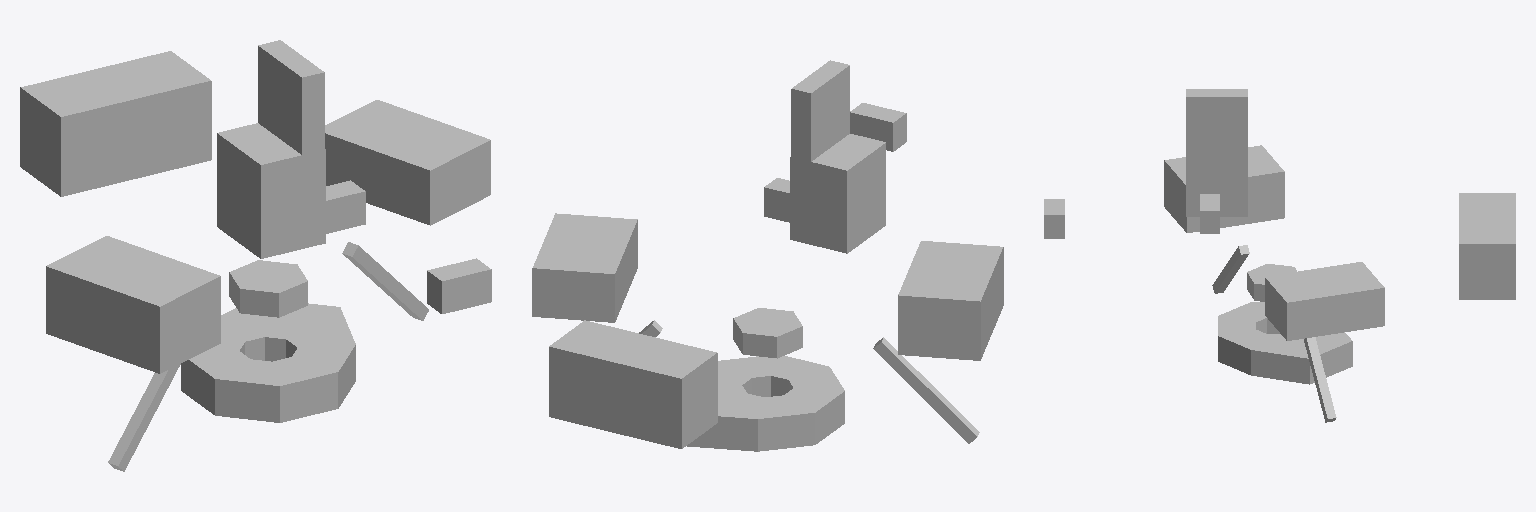
The robot description file, URDF, robot "c1":
<?xml version="1.0" encoding="utf-8"?>
<robot name="c1">
  <link name="gripper_base">
    <visual>
      <geometry>
        <mesh filename="package://c1/meshes/visual/L0_visual_0.stl" scale="0.001 0.001 0.001"/>
      </geometry>
      <material name="Material">
        <color rgba="0.8 0.8 0.8 1.0"/>
      </material>
    </visual>
    <visual>
      <geometry>
        <mesh filename="package://c1/meshes/visual/L0_visual_1.stl" scale="0.001 0.001 0.001"/>
      </geometry>
      <material name="Material">
        <color rgba="0.8 0.8 0.8 1.0"/>
      </material>
    </visual>
    <visual>
      <geometry>
        <mesh filename="package://c1/meshes/visual/L0_visual_2.stl" scale="0.001 0.001 0.001"/>
      </geometry>
      <material name="Material">
        <color rgba="0.8 0.8 0.8 1.0"/>
      </material>
    </visual>
    <visual>
      <geometry>
        <mesh filename="package://c1/meshes/visual/L0_visual_3.stl" scale="0.001 0.001 0.001"/>
      </geometry>
      <material name="Material">
        <color rgba="0.8 0.8 0.8 1.0"/>
      </material>
    </visual>
    <visual>
      <geometry>
        <mesh filename="package://c1/meshes/visual/L0_visual_4.stl" scale="0.001 0.001 0.001"/>
      </geometry>
      <material name="Material">
        <color rgba="0.8 0.8 0.8 1.0"/>
      </material>
    </visual>
    <visual>
      <geometry>
        <mesh filename="package://c1/meshes/visual/L0_visual_5.stl" scale="0.001 0.001 0.001"/>
      </geometry>
      <material name="Material">
        <color rgba="0.8 0.8 0.8 1.0"/>
      </material>
    </visual>
    <visual>
      <geometry>
        <mesh filename="package://c1/meshes/visual/L0_visual_6.stl" scale="0.001 0.001 0.001"/>
      </geometry>
      <material name="Material">
        <color rgba="0.8 0.8 0.8 1.0"/>
      </material>
    </visual>
    <visual>
      <geometry>
        <mesh filename="package://c1/meshes/visual/L0_visual_7.stl" scale="0.001 0.001 0.001"/>
      </geometry>
      <material name="Material">
        <color rgba="0.8 0.8 0.8 1.0"/>
      </material>
    </visual>
    <visual>
      <geometry>
        <mesh filename="package://c1/meshes/visual/L0_visual_8.stl" scale="0.001 0.001 0.001"/>
      </geometry>
      <material name="Material">
        <color rgba="0.8 0.8 0.8 1.0"/>
      </material>
    </visual>
    <visual>
      <geometry>
        <mesh filename="package://c1/meshes/visual/L0_visual_9.stl" scale="0.001 0.001 0.001"/>
      </geometry>
      <material name="Material">
        <color rgba="0.8 0.8 0.8 1.0"/>
      </material>
    </visual>
    <visual>
      <geometry>
        <mesh filename="package://c1/meshes/visual/L0_visual_10.stl" scale="0.001 0.001 0.001"/>
      </geometry>
      <material name="Material">
        <color rgba="0.8 0.8 0.8 1.0"/>
      </material>
    </visual>
    <visual>
      <geometry>
        <mesh filename="package://c1/meshes/visual/L0_visual_11.stl" scale="0.001 0.001 0.001"/>
      </geometry>
      <material name="Material">
        <color rgba="0.8 0.8 0.8 1.0"/>
      </material>
    </visual>
    <visual>
      <geometry>
        <mesh filename="package://c1/meshes/visual/L0_visual_12.stl" scale="0.001 0.001 0.001"/>
      </geometry>
      <material name="Material">
        <color rgba="0.8 0.8 0.8 1.0"/>
      </material>
    </visual>
    <visual>
      <geometry>
        <mesh filename="package://c1/meshes/visual/L0_visual_13.stl" scale="0.001 0.001 0.001"/>
      </geometry>
      <material name="Material">
        <color rgba="0.8 0.8 0.8 1.0"/>
      </material>
    </visual>
    <visual>
      <geometry>
        <mesh filename="package://c1/meshes/visual/L0_visual_14.stl" scale="0.001 0.001 0.001"/>
      </geometry>
      <material name="Material">
        <color rgba="0.8 0.8 0.8 1.0"/>
      </material>
    </visual>
    <visual>
      <geometry>
        <mesh filename="package://c1/meshes/visual/L0_visual_15.stl" scale="0.001 0.001 0.001"/>
      </geometry>
      <material name="Material">
        <color rgba="0.8 0.8 0.8 1.0"/>
      </material>
    </visual>
  </link>
  <link name="gripper_jaw">
    <visual>
      <geometry>
        <mesh filename="package://c1/meshes/visual/L1_visual_0.stl" scale="0.001 0.001 0.001"/>
      </geometry>
      <material name="Material">
        <color rgba="0.8 0.8 0.8 1.0"/>
      </material>
    </visual>
    <visual>
      <geometry>
        <mesh filename="package://c1/meshes/visual/L1_visual_1.stl" scale="0.001 0.001 0.001"/>
      </geometry>
      <material name="Material">
        <color rgba="0.8 0.8 0.8 1.0"/>
      </material>
    </visual>
    <visual>
      <geometry>
        <mesh filename="package://c1/meshes/visual/L1_visual_2.stl" scale="0.001 0.001 0.001"/>
      </geometry>
      <material name="Material">
        <color rgba="0.8 0.8 0.8 1.0"/>
      </material>
    </visual>
  </link>
  <link name="clamp_jaw">
    <visual>
      <geometry>
        <mesh filename="package://c1/meshes/visual/L2_visual_0.stl" scale="0.001 0.001 0.001"/>
      </geometry>
      <material name="Material">
        <color rgba="0.8 0.8 0.8 1.0"/>
      </material>
    </visual>
    <visual>
      <geometry>
        <mesh filename="package://c1/meshes/visual/L2_visual_1.stl" scale="0.001 0.001 0.001"/>
      </geometry>
      <material name="Material">
        <color rgba="0.8 0.8 0.8 1.0"/>
      </material>
    </visual>
    <visual>
      <geometry>
        <mesh filename="package://c1/meshes/visual/L2_visual_2.stl" scale="0.001 0.001 0.001"/>
      </geometry>
      <material name="Material">
        <color rgba="0.8 0.8 0.8 1.0"/>
      </material>
    </visual>
  </link>
  <joint name="joint_gripper_jaw" type="prismatic">
    <parent link="gripper_base"/>
    <child link="gripper_jaw"/>
    <axis xyz="0.258029017661 0.966137167303 3.56867313478e-13"/>
    <limit effort="0.0" upper="0.04" velocity="0.0"/>
    <origin rpy="0.0 0.0 0.0" xyz="0.0 0.0 0.0"/>
  </joint>
  <joint name="joint_clamp_jaw" type="prismatic">
    <parent link="gripper_base"/>
    <child link="clamp_jaw"/>
    <axis xyz="0.258029017661 0.966137167303 3.56867313478e-13"/>
    <limit effort="0.0" lower="0.1" upper="0.24" velocity="0.0"/>
    <origin rpy="0.0 0.0 0.0" xyz="0.0 0.0 0.0"/>
  </joint>
</robot>

--- What the picture shows (computed from the rendered views, not written in the file) ---
3 views of the same robot in one strip: view 1: azimuth 30°, elevation 25°; view 2: azimuth 150°, elevation 25°; view 3: azimuth 270°, elevation 25° (orthographic).
Robot: c1 — 3 links, 2 joints (2 prismatic); root link gripper_base; default pose: all joints at 0 but 1 set to mid-range because 0 is outside their limits (joint_clamp_jaw = 0.17).
Visible links, largest first — view 1: gripper_base, clamp_jaw, gripper_jaw; view 2: gripper_base, clamp_jaw, gripper_jaw; view 3: gripper_base, clamp_jaw, gripper_jaw.
Link boxes in pixels (x1=…): gripper_base: x1=20, y1=51, x2=490, y2=471; clamp_jaw: x1=217, y1=40, x2=365, y2=258; gripper_jaw: x1=427, y1=258, x2=491, y2=313; gripper_base: x1=532, y1=213, x2=1003, y2=451; clamp_jaw: x1=764, y1=60, x2=885, y2=253; gripper_jaw: x1=850, y1=103, x2=906, y2=151; gripper_base: x1=1164, y1=145, x2=1515, y2=422; clamp_jaw: x1=1186, y1=89, x2=1247, y2=233; gripper_jaw: x1=1044, y1=199, x2=1064, y2=238.
Bounding box of the posed robot: 0.3947 × 0.4985 × 0.3015 m (x, y, z).
11 mesh visuals loaded from 22 distinct referenced files (11 binary STL); not drawn: 11 (reference not matched to a file when rendering).